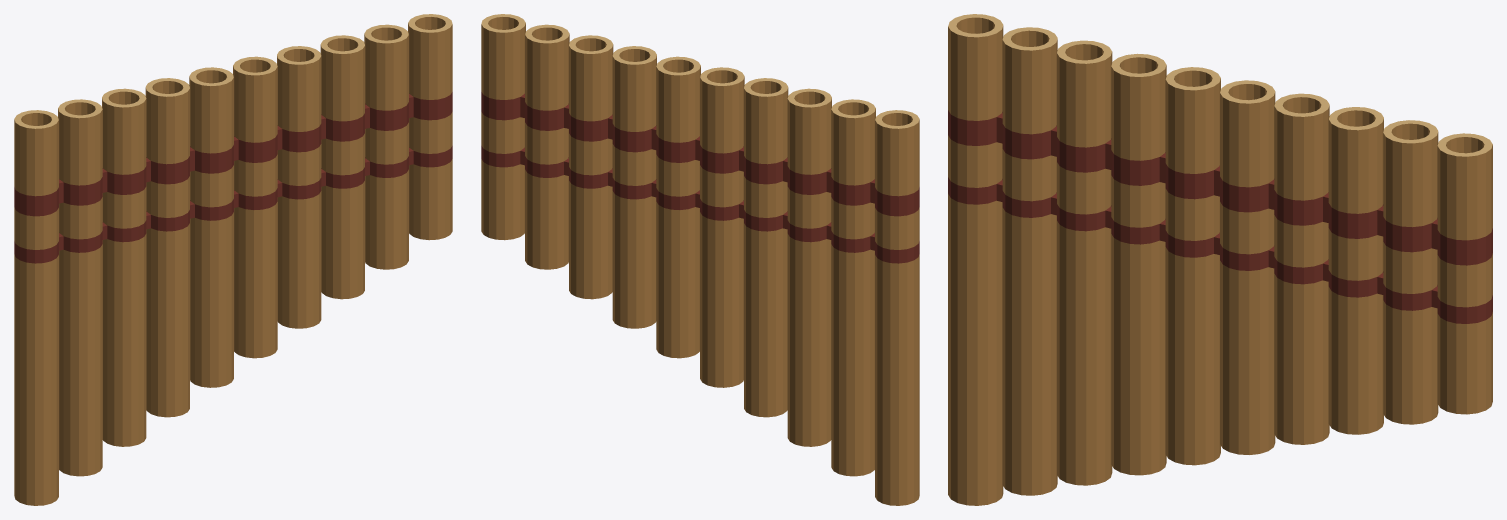
The model's file is NEW_RECOVERY_063_LOD1.glb.
3 renders of one model, left to right at view 1: azimuth 30°, elevation 25°; view 2: azimuth 150°, elevation 25°; view 3: azimuth 330°, elevation 25°, orthographic. The views are drawn at different scales.
Parts seen in each view (by area): view 1: Pan_flute; view 2: Pan_flute; view 3: Pan_flute.
Part boxes in pixels (x1=…): Pan_flute: x1=14, y1=14, x2=452, y2=505; Pan_flute: x1=481, y1=14, x2=919, y2=505; Pan_flute: x1=948, y1=14, x2=1492, y2=505.
Bounding box in the file's own units: 3.35 × 2.8 × 0.2942.
